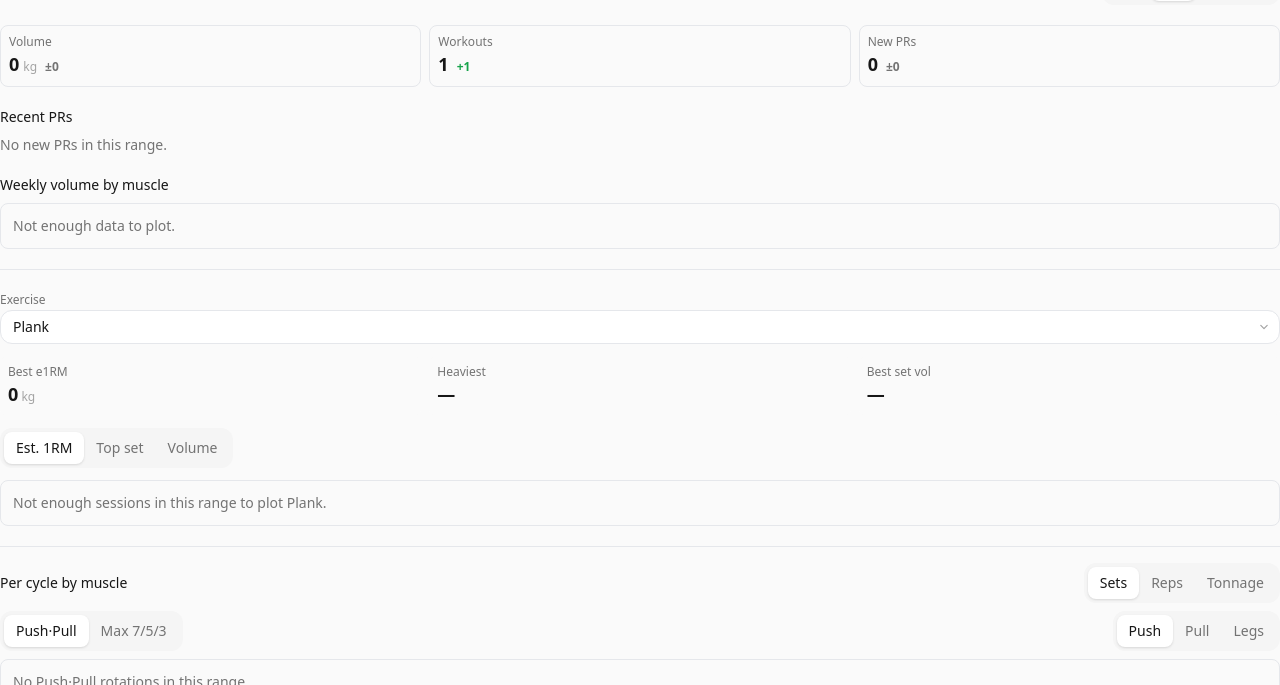
it: StrengthAnalysis › shows the cycle-chart empty state when no logged muscle is in a category
What coordinates should you click on to do the following:
click the button "Max 7/5/3"
I would click on:
 (134, 631)
Its box is [89,615,179,647].
(page scrolled)
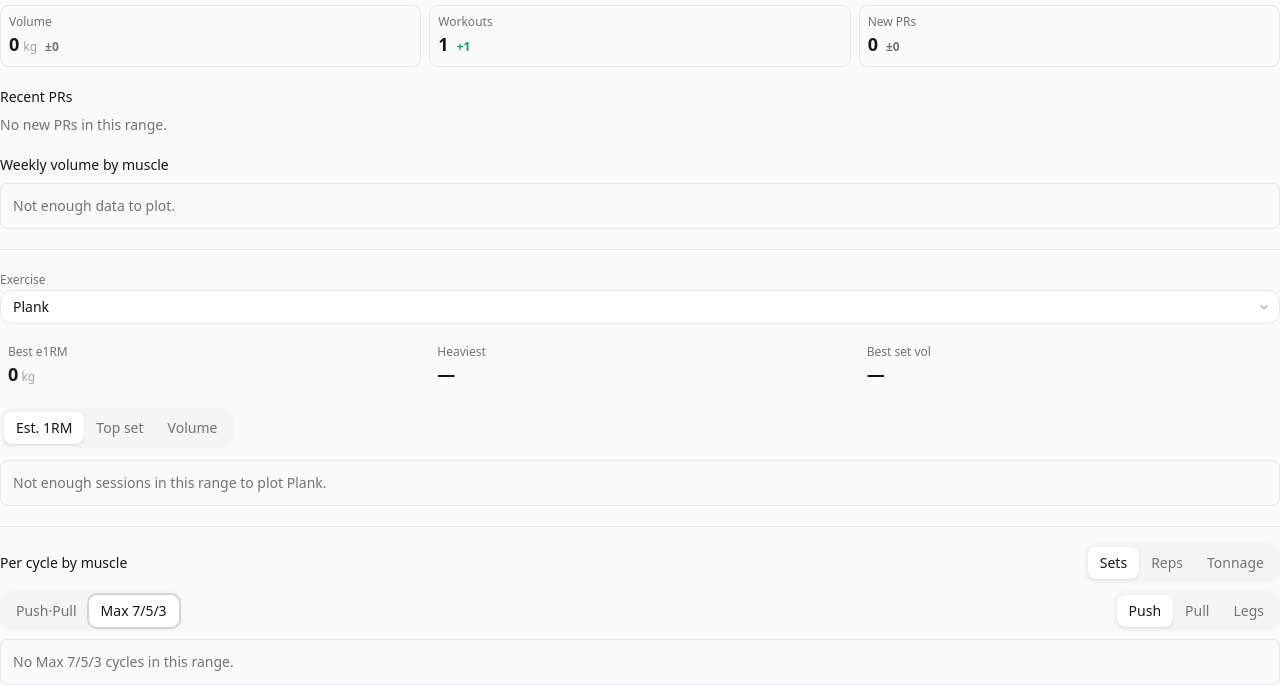
Expected: the text "No Max 7/5/3 cycles in this range." is shown, [13,652,234,671]
